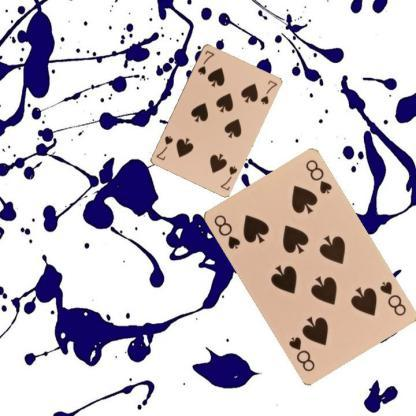7s: (194, 48, 216, 76), (218, 162, 238, 192)
8s: (376, 278, 407, 318), (210, 212, 242, 250)
